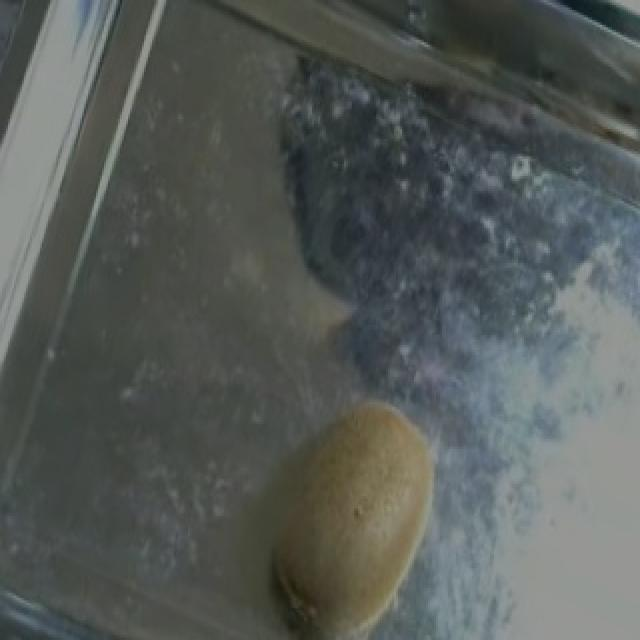Fruit: (230, 369, 462, 640)
